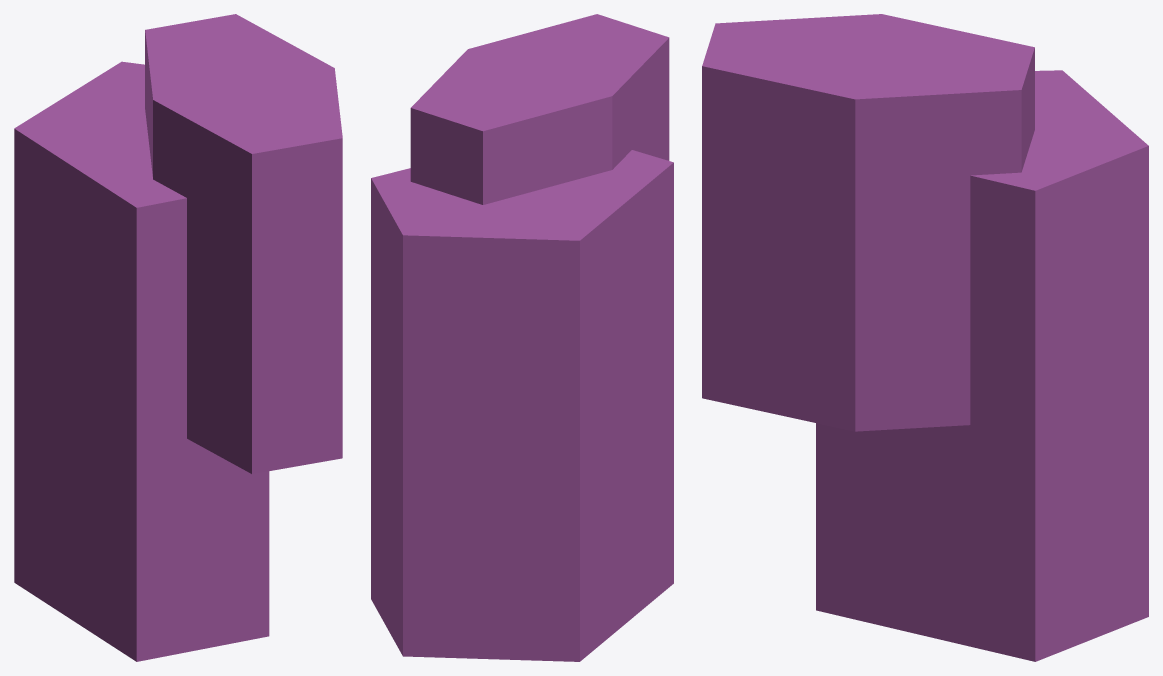
File: Rock.fbx
3 views of the same model, side by side, from view 1: azimuth 30°, elevation 25°; view 2: azimuth 150°, elevation 25°; view 3: azimuth 270°, elevation 25° (orthographic). The views are drawn at different scales.
Parts seen in each view (by area): view 1: pCylinder113; view 2: pCylinder113; view 3: pCylinder113.
Part boxes in pixels (left/top/right/bottom): pCylinder113: left=14, top=14, right=342, bottom=661; pCylinder113: left=371, top=14, right=673, bottom=661; pCylinder113: left=702, top=14, right=1148, bottom=661.
Size of the model in its own units: 3.95 by 8.47 by 6.19.
